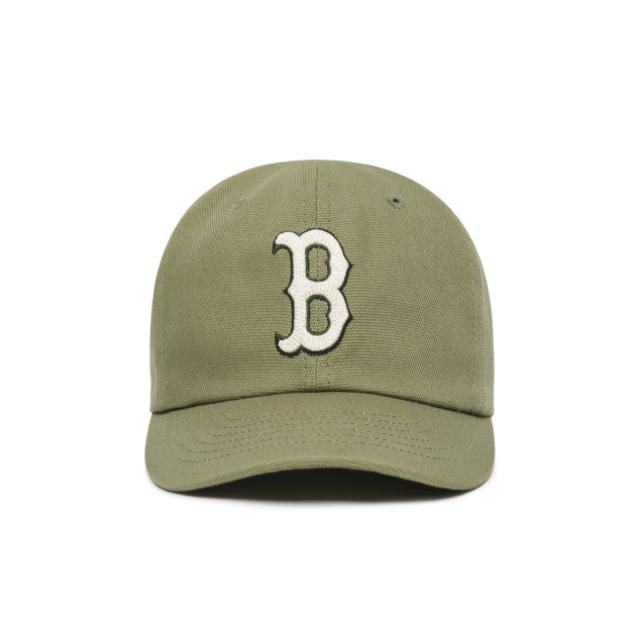no_helmet: (131, 143, 517, 514)
